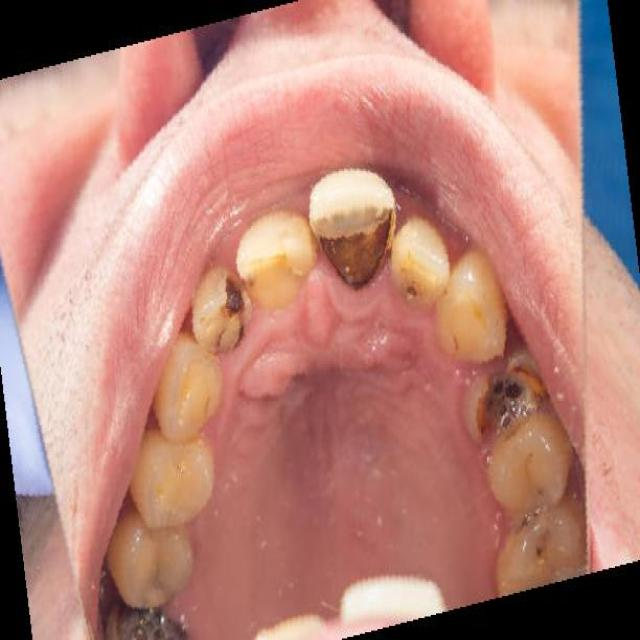caries: (316, 200, 392, 288), (475, 368, 537, 448), (200, 265, 250, 344), (105, 597, 187, 640)
